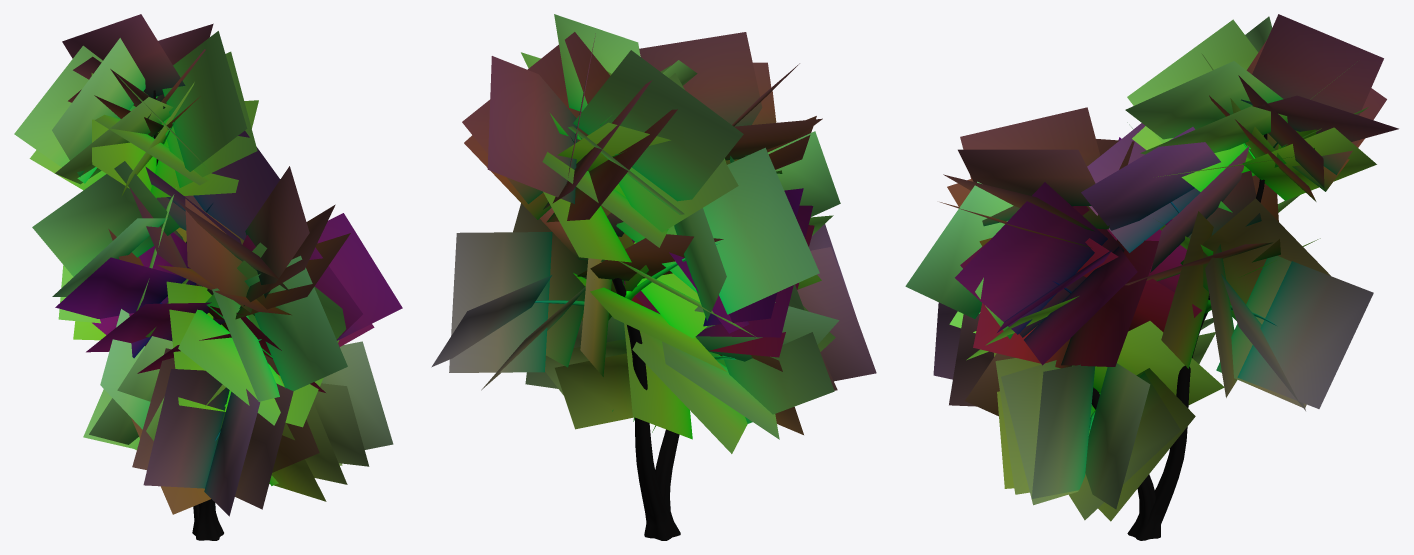
The model's file is URP_P15_Tree_5_LOD_0.fbx.
3 renders of one model, left to right at view 1: azimuth 30°, elevation 25°; view 2: azimuth 150°, elevation 25°; view 3: azimuth 270°, elevation 25°, orthographic. The views are drawn at different scales.
Parts seen in each view (by area): view 1: Tree_5_LOD_0; view 2: Tree_5_LOD_0; view 3: Tree_5_LOD_0.
Boxes of the visible parts, bbox=[...] form: Tree_5_LOD_0: bbox=[14, 14, 402, 540]; Tree_5_LOD_0: bbox=[431, 14, 876, 540]; Tree_5_LOD_0: bbox=[905, 14, 1398, 540].
Bounding box in the file's own units: 499 × 817 × 709.
